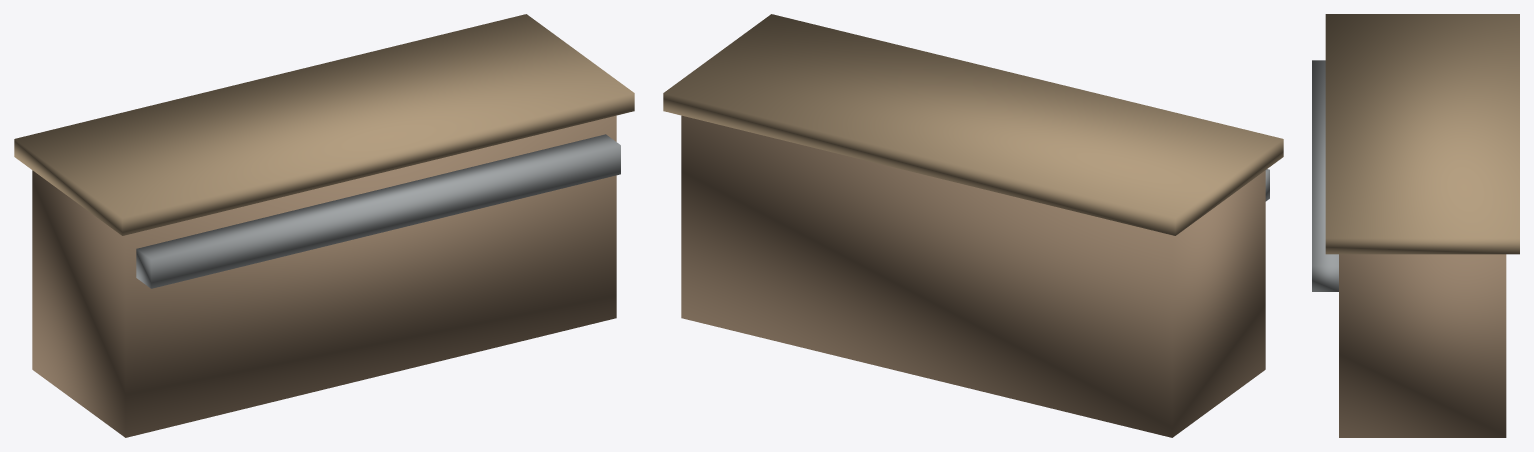
Rendered from bar_counter__deep.glb.
3 views of the same model, side by side, from view 1: azimuth 30°, elevation 25°; view 2: azimuth 150°, elevation 25°; view 3: azimuth 270°, elevation 25° (orthographic). The views are drawn at different scales.
Visible parts, largest first — view 1: world; view 2: world; view 3: world.
Part boxes in pixels (x1,y1,x2,y2): world: (14, 14, 634, 437); world: (663, 14, 1283, 437); world: (1312, 14, 1519, 437).
Size of the model in its own units: 2.4 by 1.02 by 0.9394.
